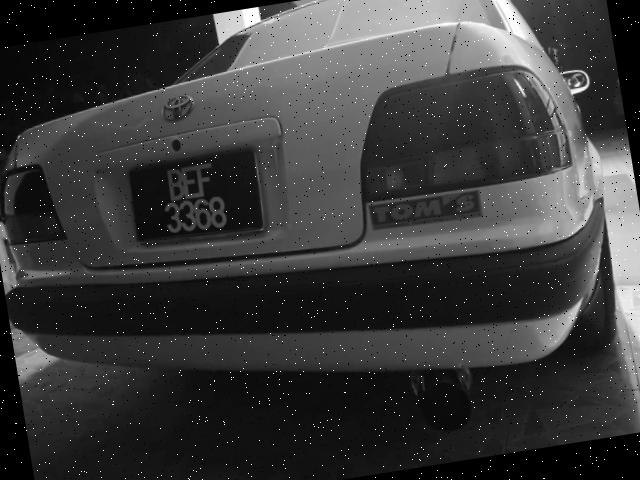License_Plate: (130, 152, 268, 252)
car: (1, 1, 640, 471)
